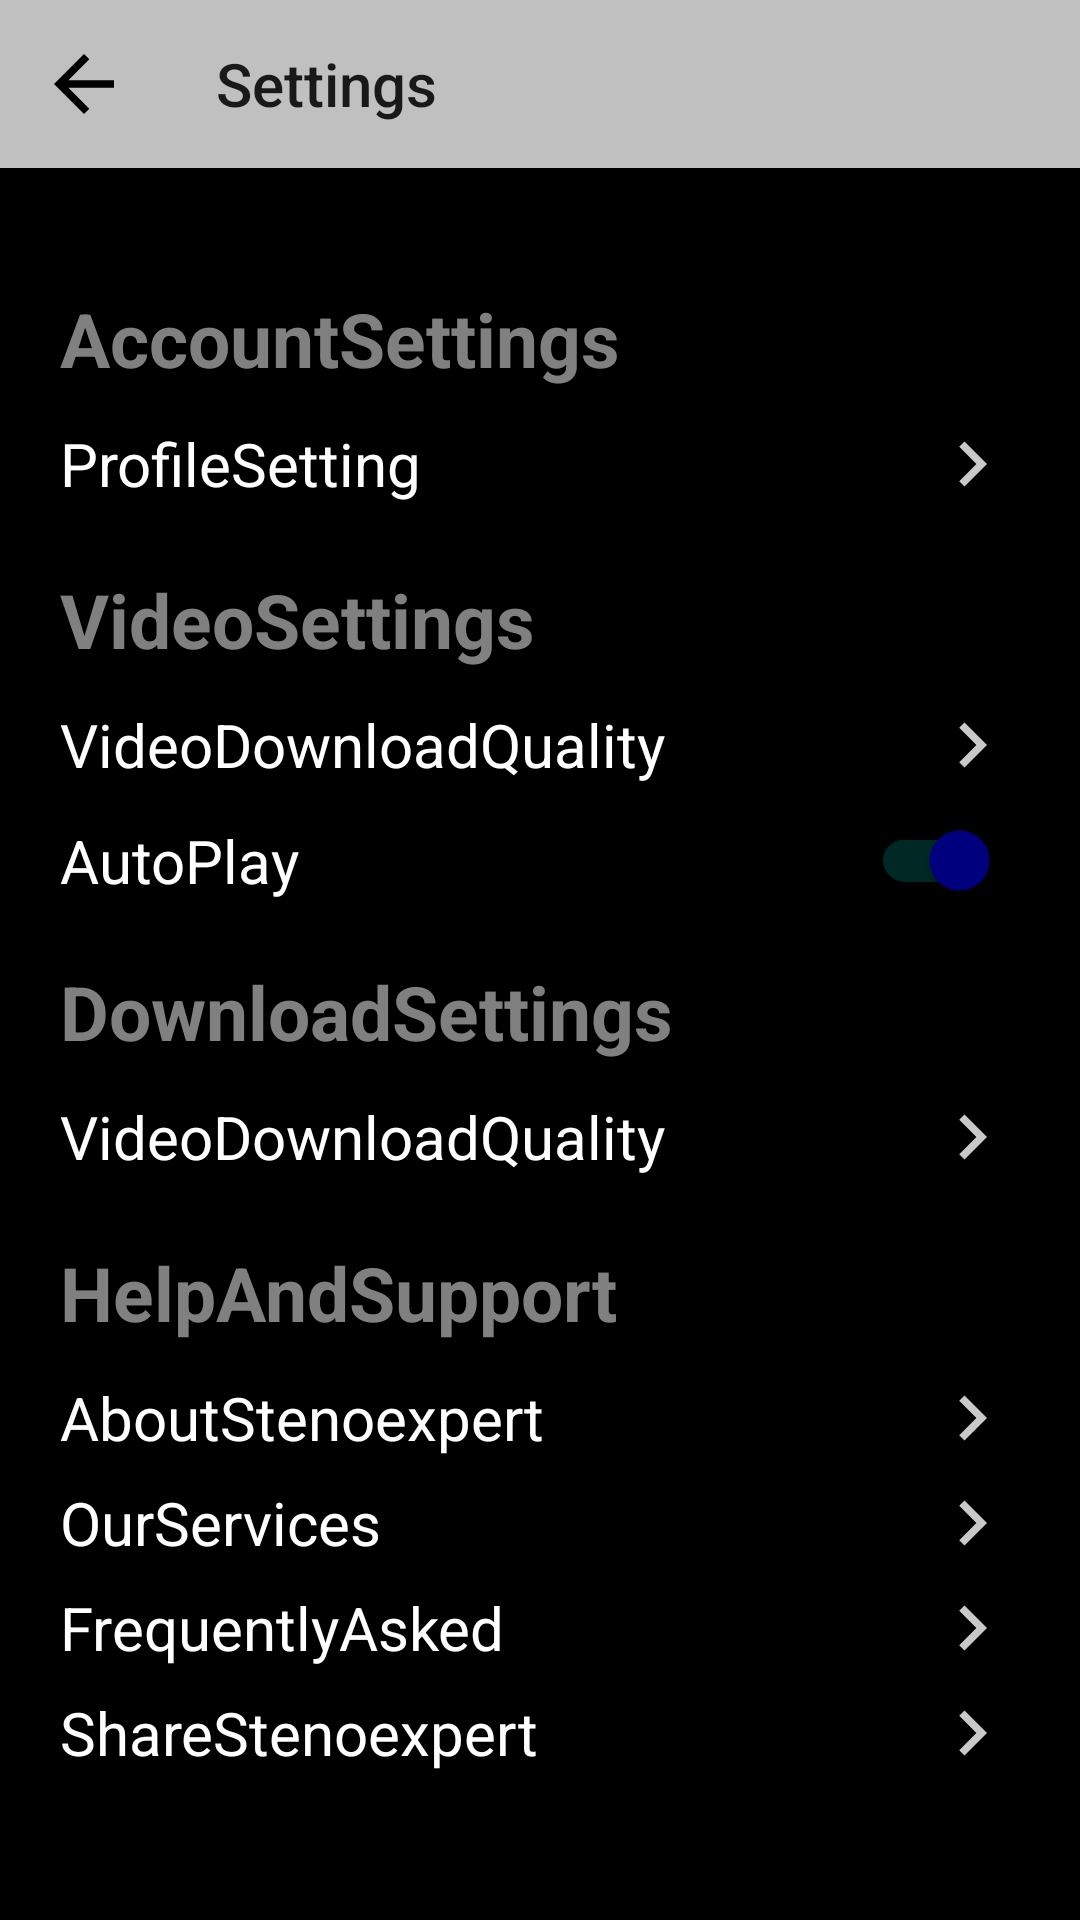

Icons on this 1080×1920 Android screen, each with its box as detection(x1, y1, x2, y2):
keyboard arrow right: detection(959, 441, 987, 487), detection(959, 722, 987, 768), detection(959, 1114, 987, 1160), detection(959, 1395, 987, 1441), detection(959, 1500, 987, 1546), detection(959, 1605, 987, 1651), detection(959, 1710, 987, 1756)
